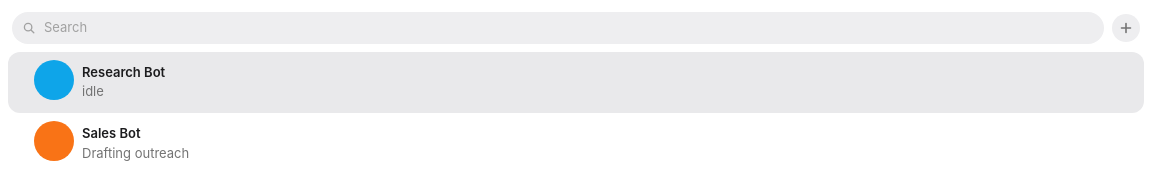
Test: Sidebar › filters rows by title through the search field
In the search field labelled "Search": (558, 28) [12,12,1104,44], type "sales"
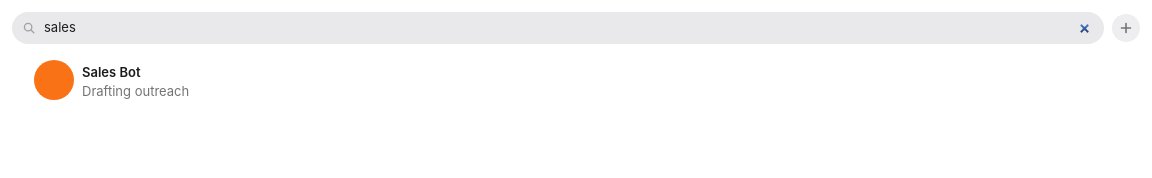
expect the text "Sales Bot" is shown: met, box [82,63,140,82]
expect the button "Research Bot" is gone: met
